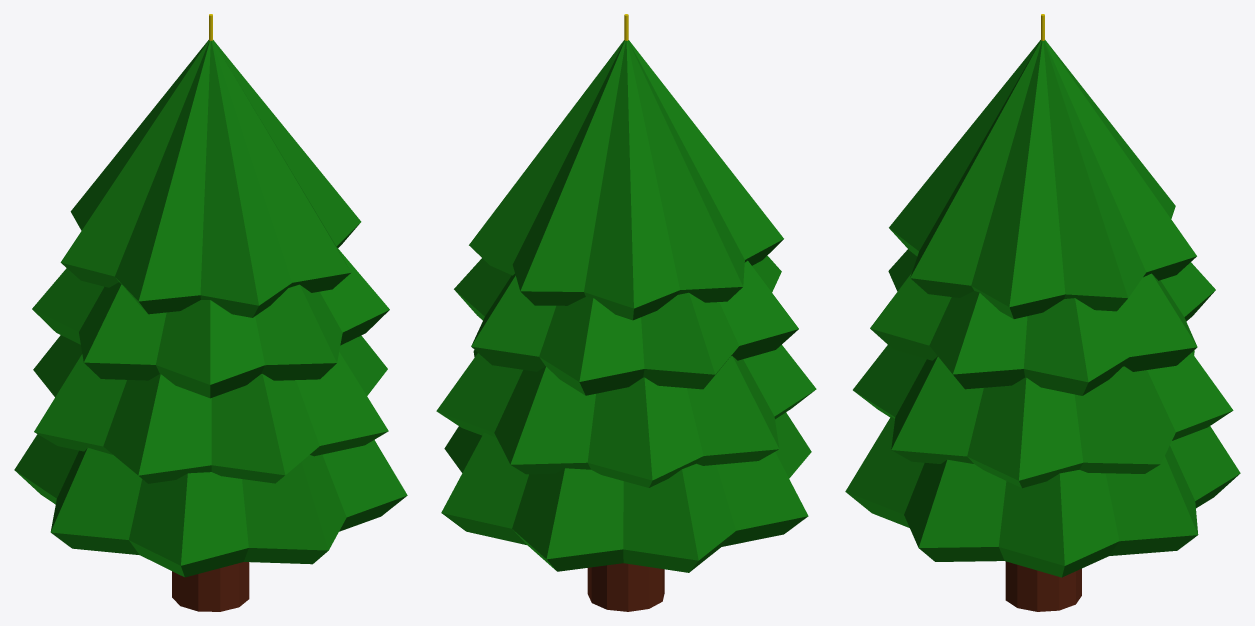
Rendered from elka.glb.
3 views of the same model, side by side, from view 1: azimuth 30°, elevation 25°; view 2: azimuth 150°, elevation 25°; view 3: azimuth 270°, elevation 25° (orthographic).
Parts seen in each view (by area): view 1: Окружность; view 2: Окружность; view 3: Окружность.
Part boxes in pixels (x1,y1,x2,y2): Окружность: (14, 14, 407, 611); Окружность: (436, 14, 816, 611); Окружность: (845, 14, 1240, 611).
Bounding box in the file's own units: 1.82 × 2.94 × 1.82.
